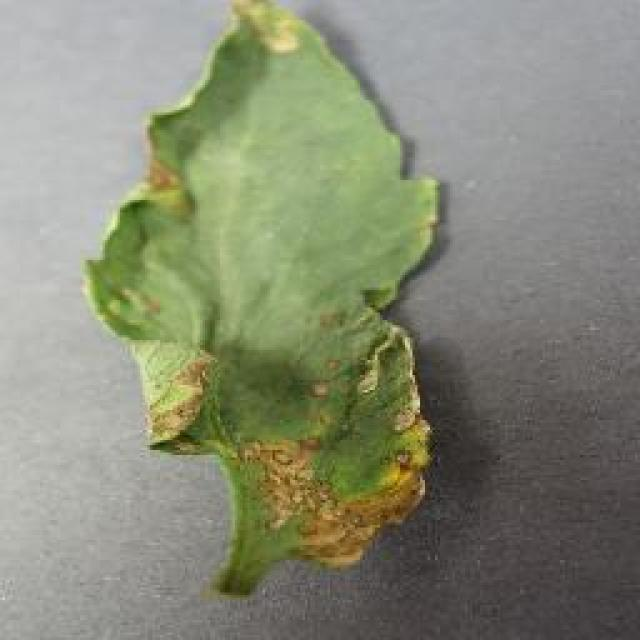Tomato___Bacterial_spot: (77, 0, 448, 603)
